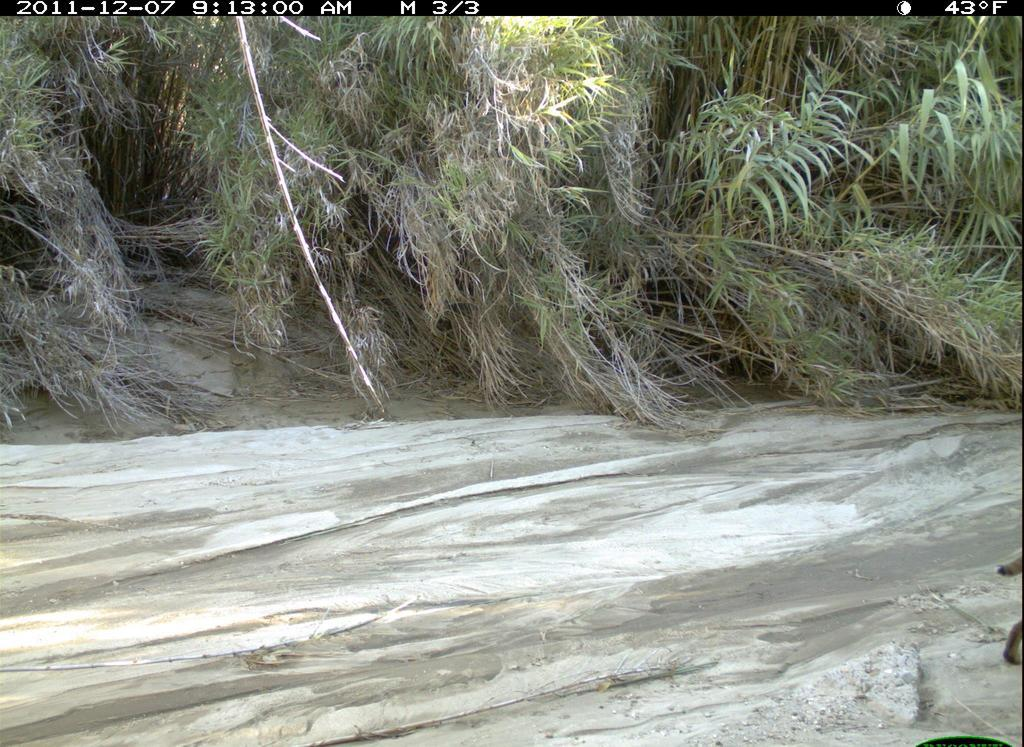bobcat: (990, 541, 1021, 671)
